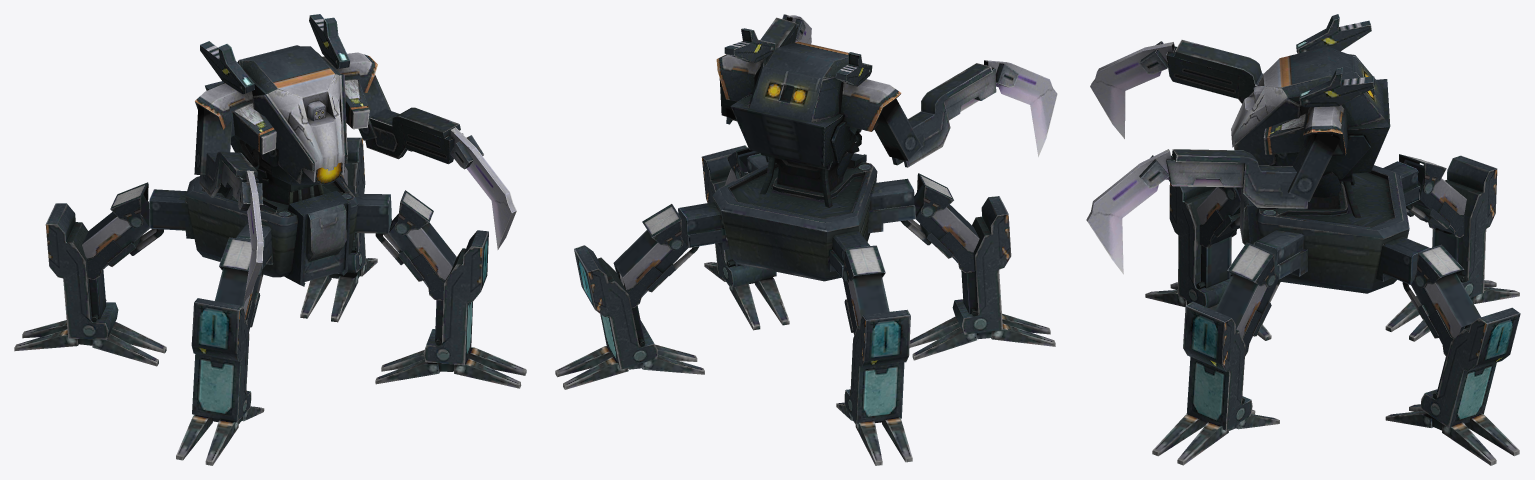
The picture shows the model from 3 angles, left to right: view 1: azimuth 30°, elevation 25°; view 2: azimuth 150°, elevation 25°; view 3: azimuth 270°, elevation 25°; orthographic projection. The views are drawn at different scales.
Parts seen in each view (by area): view 1: 20_10; view 2: 20_10; view 3: 20_10.
Boxes of the visible parts, bbox=[...] form: 20_10: bbox=[14, 14, 526, 465]; 20_10: bbox=[555, 14, 1057, 465]; 20_10: bbox=[1086, 14, 1520, 465].
Bounding box in the file's own units: 301 × 265 × 304.
1 material, 1 textured.
